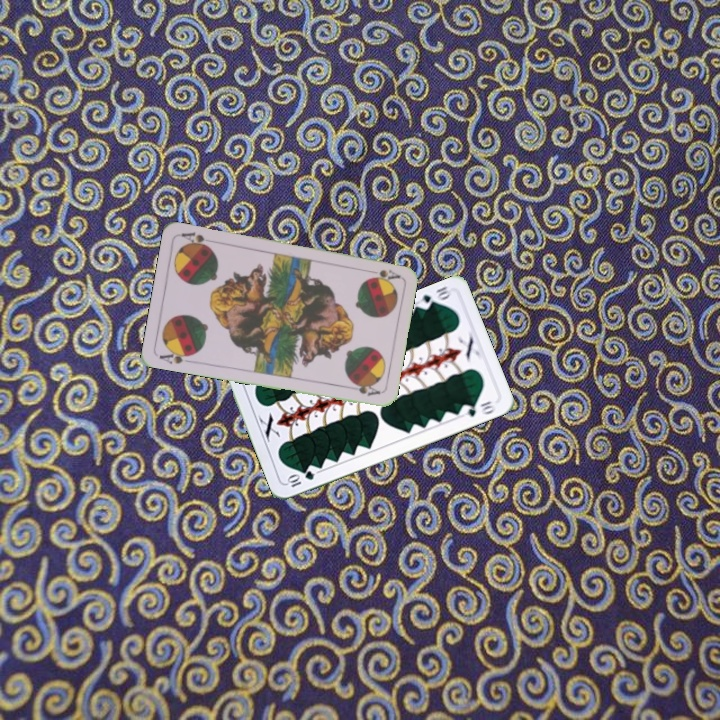G10: (414, 282, 453, 312), (283, 467, 317, 490)
SA: (155, 346, 197, 366), (362, 265, 402, 282)
